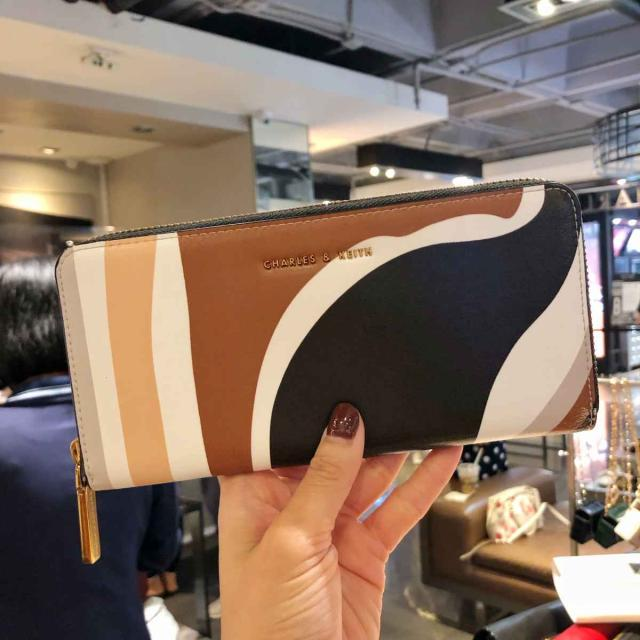Handbag: (70, 180, 601, 496)
